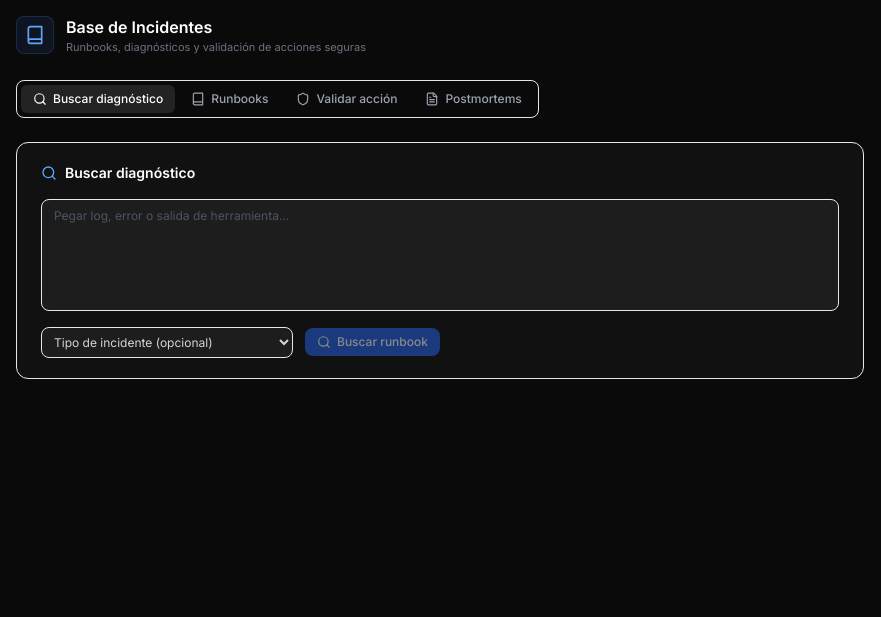
Search section › match result shows safe_actions chips
This screenshot has width=881, height=617.
In the text box with test id "knowledge-search-textarea": (440, 254) top-left (41, 198), bottom-right (839, 310), type "log"
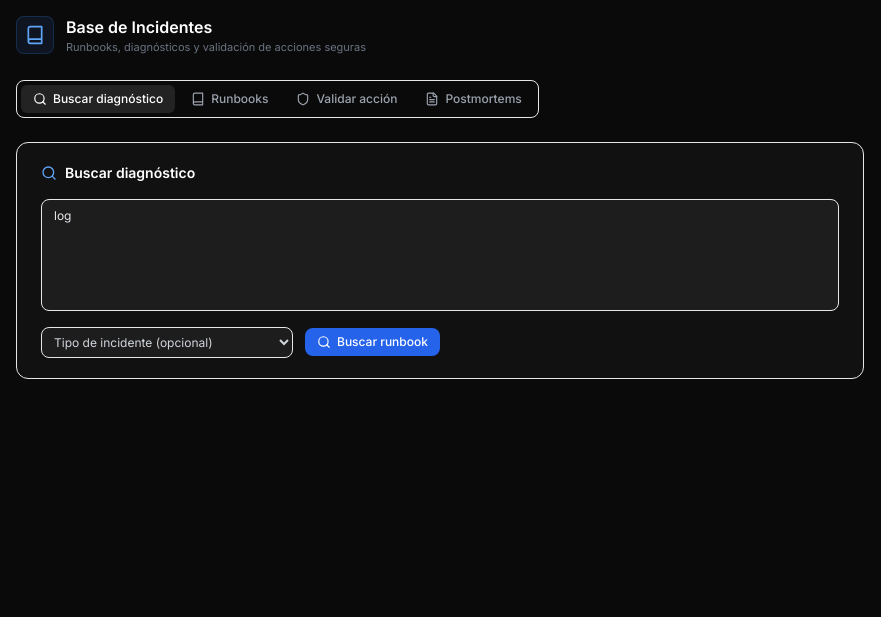
Click the button with test id "knowledge-search-btn": (372, 342) top-left (305, 328), bottom-right (440, 356)
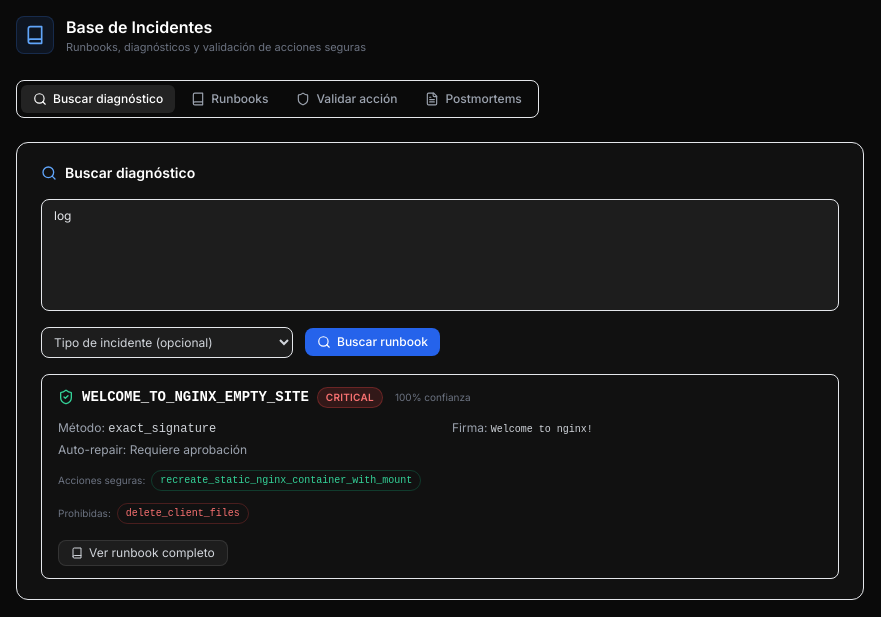
Result: the element with test id "knowledge-match-result" is shown at top-left (41, 374), bottom-right (839, 578)
Result: the element with test id "knowledge-match-result" shows "recreate_static_nginx_container_with_mount" at top-left (160, 474), bottom-right (412, 486)
